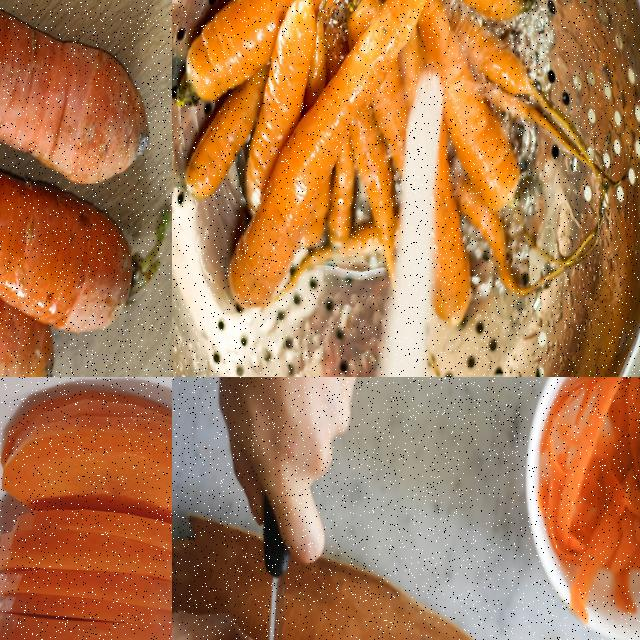carrot: (172, 0, 609, 374), (0, 387, 171, 639), (0, 40, 139, 337), (0, 0, 146, 185), (0, 32, 55, 376)
